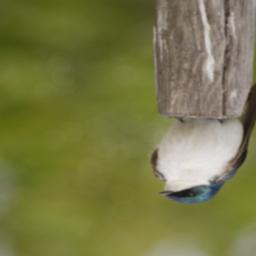Swallow: (146, 80, 256, 209)
